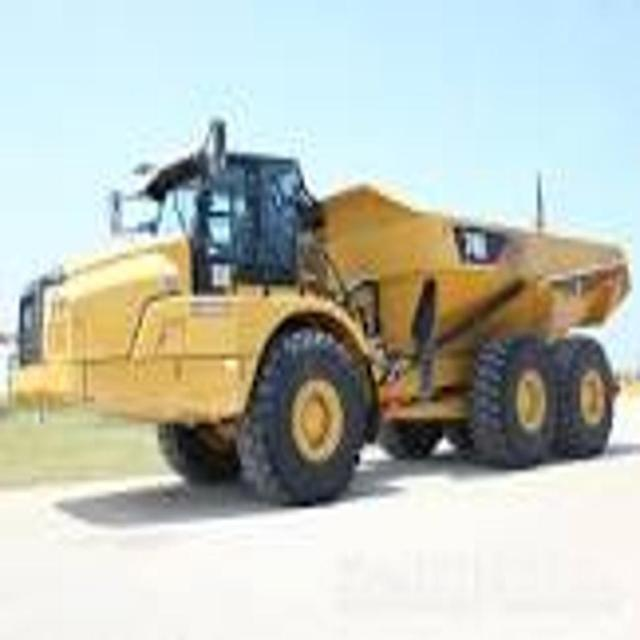dump_truck: (7, 98, 634, 488)
